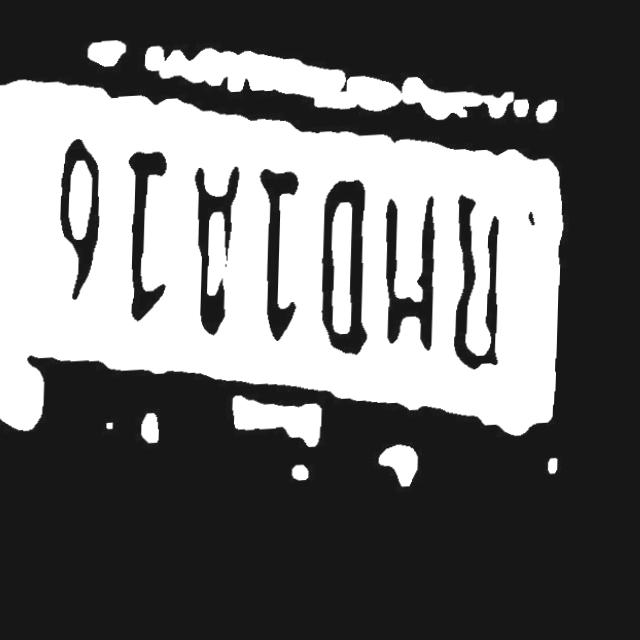1: (120, 143, 179, 331), (254, 165, 308, 350)
6: (52, 133, 107, 311)
a: (190, 157, 245, 345)
d: (316, 182, 373, 365)
m: (379, 190, 442, 366)
r: (449, 199, 511, 384)
